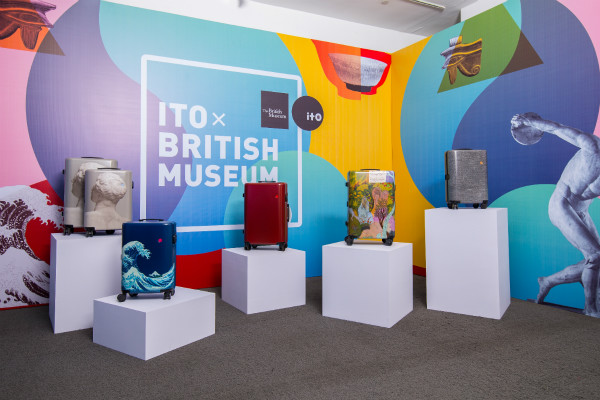suitcase: (118, 221, 177, 300), (344, 168, 397, 245), (244, 183, 290, 250), (444, 146, 489, 206)
